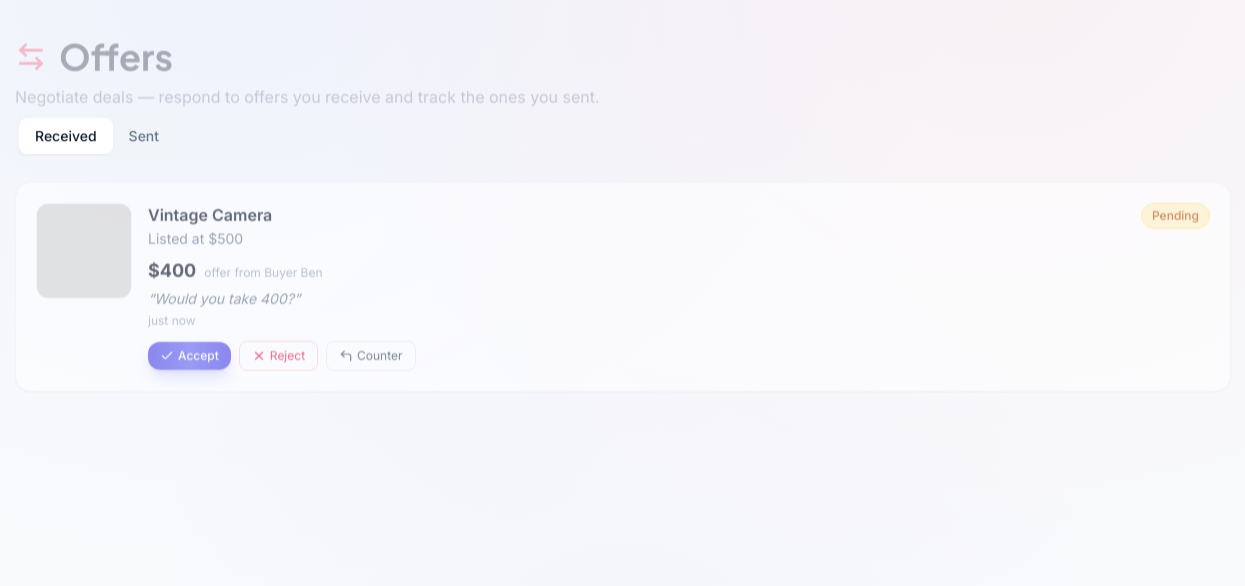
Test: Offers page › switches to the Sent tab, loads sent offers and shows withdraw
The width and height of the screenshot is (1245, 586).
Check: the link "Vintage Camera" is shown, box [148,203,272,227]
Click the button "Sent" at coordinates (144, 136), box [113,118,175,154]
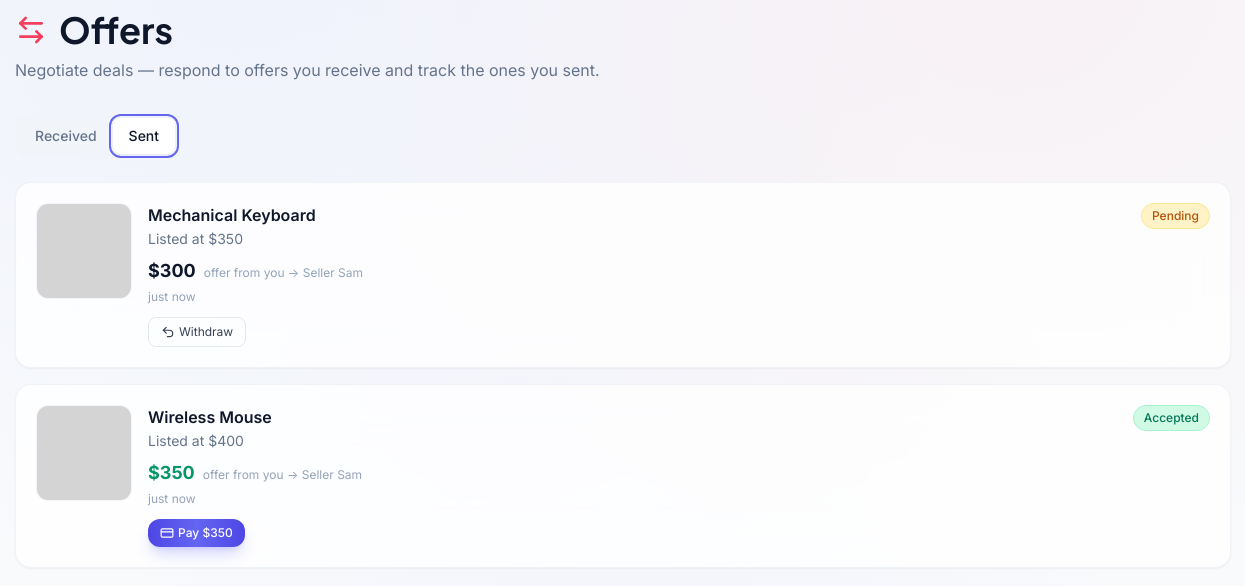
Check: the link "Mechanical Keyboard" is shown, box [148,203,316,227]
Check: the button "Withdraw" is shown, box [148,317,246,347]
